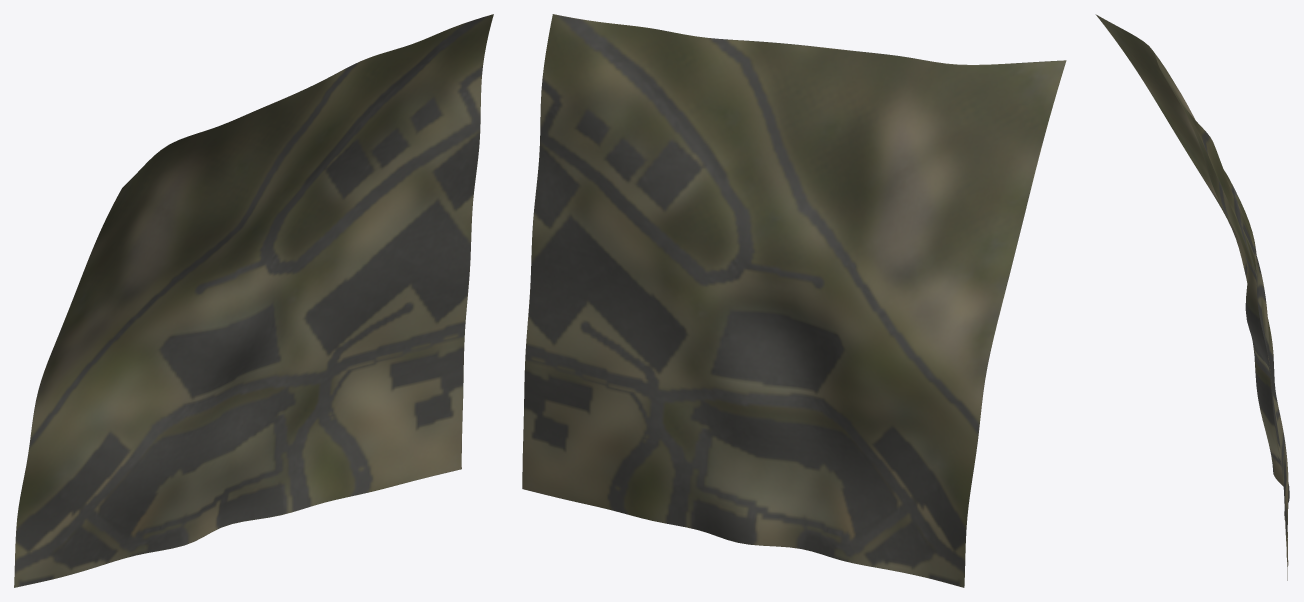
Rendered from ground_mid_06_07.obj.
The picture shows the model from 3 angles, left to right: view 1: azimuth 30°, elevation 25°; view 2: azimuth 150°, elevation 25°; view 3: azimuth 270°, elevation 25°; orthographic projection. The views are drawn at different scales.
Visible parts, largest first — view 1: ground_mid_06_07; view 2: ground_mid_06_07; view 3: ground_mid_06_07.
Part boxes in pixels (x1,y1,x2,y2): ground_mid_06_07: (14, 14, 493, 587); ground_mid_06_07: (522, 14, 1066, 587); ground_mid_06_07: (1095, 14, 1289, 580).
Size of the model in its own units: 200 by 200 by 90.04.
1 material, 1 textured.
